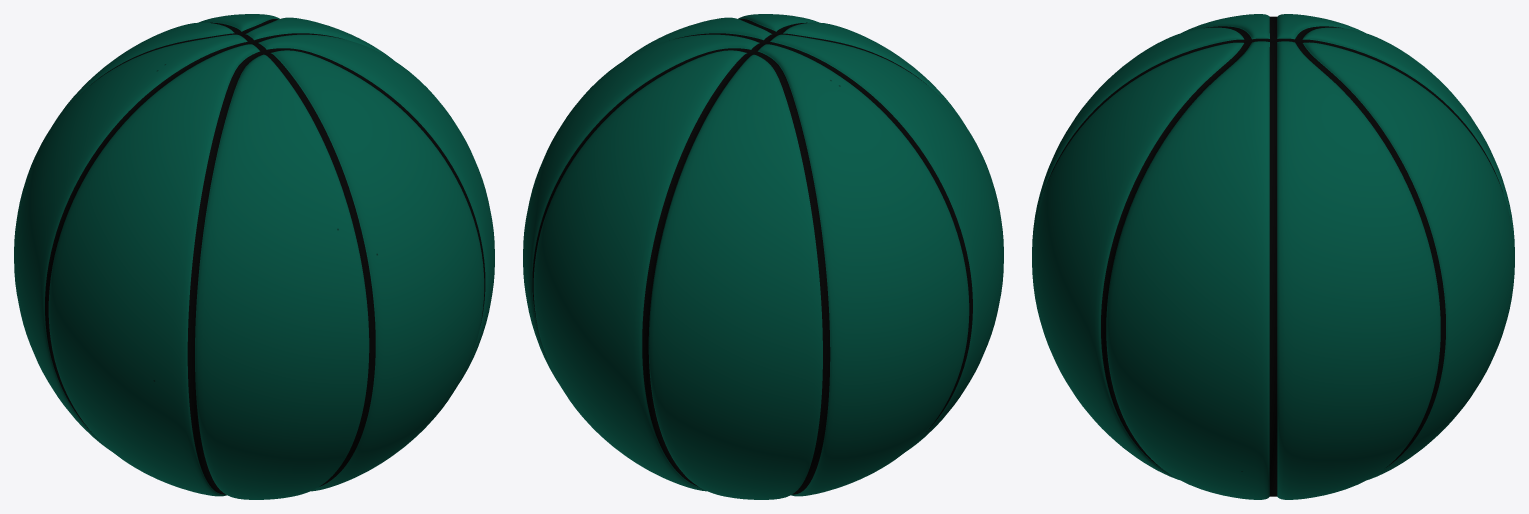
The model's file is item3.fbx.
3 renders of one model, left to right at view 1: azimuth 30°, elevation 25°; view 2: azimuth 150°, elevation 25°; view 3: azimuth 270°, elevation 25°, orthographic.
Visible parts, largest first — view 1: Item0.003; view 2: Item0.003; view 3: Item0.003.
Part boxes in pixels (box(x1,y1,x2,y2)): Item0.003: box(14, 14, 494, 499); Item0.003: box(523, 14, 1003, 499); Item0.003: box(1032, 14, 1514, 499).
Size of the model in its own units: 193 by 194 by 193.
Materials: 1 (1 with a texture image).
